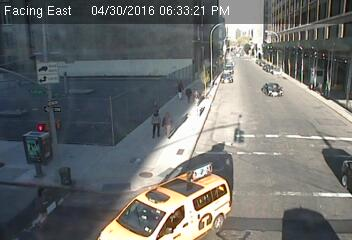neg: (304, 191, 323, 217), (315, 139, 334, 164), (43, 137, 62, 161), (231, 115, 249, 140), (312, 71, 330, 95), (264, 75, 282, 99), (38, 61, 55, 84), (191, 159, 206, 179), (271, 51, 283, 66), (192, 13, 203, 29), (134, 43, 144, 56), (256, 49, 264, 59), (237, 43, 245, 53)
pos: (145, 107, 169, 139), (158, 111, 179, 139), (175, 79, 189, 98), (184, 85, 197, 103)
